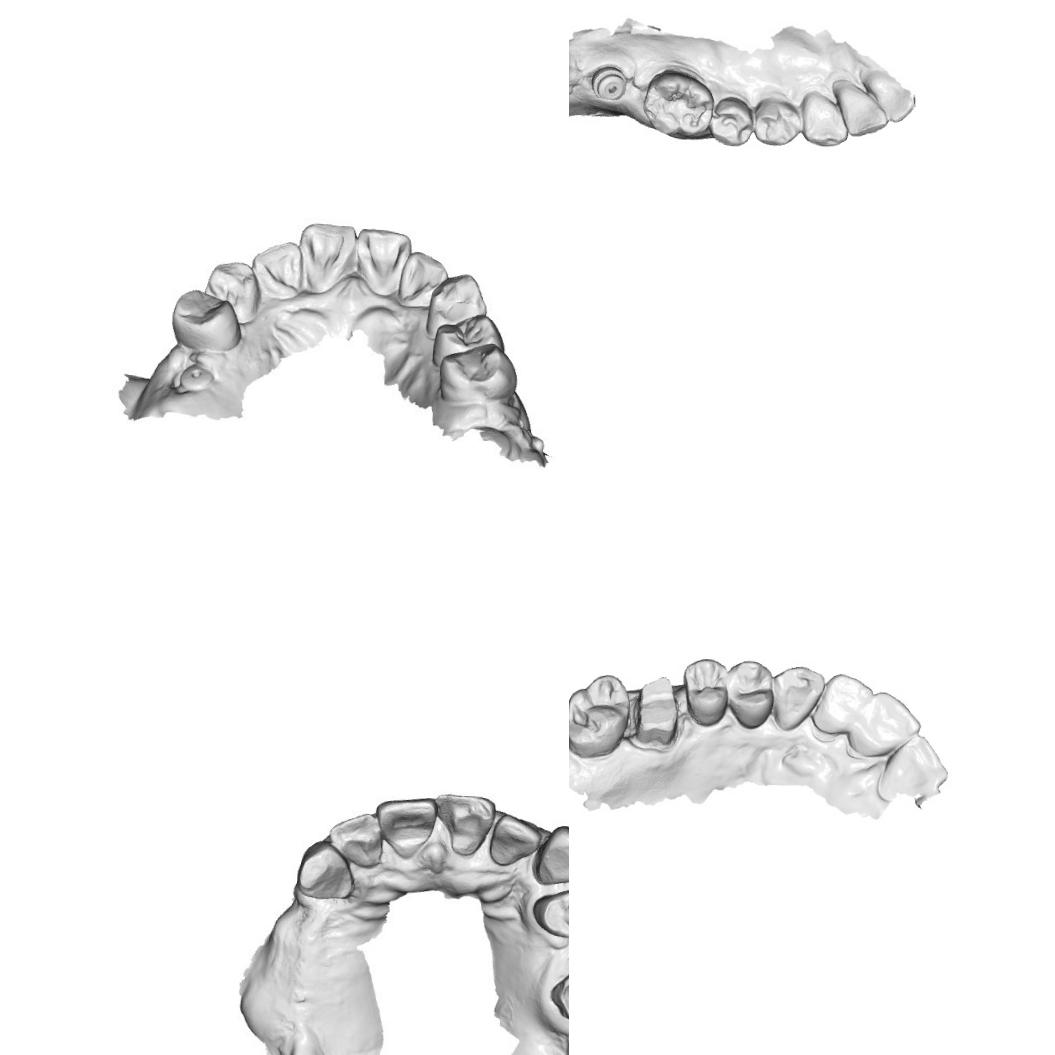canine: (294, 838, 359, 904), (769, 662, 826, 732), (799, 88, 850, 148), (528, 818, 569, 890), (208, 260, 260, 313), (430, 274, 487, 321)
crown: (628, 672, 684, 752)
implant: (588, 63, 628, 101)
incisor: (844, 688, 924, 763), (876, 732, 950, 808), (427, 785, 498, 860), (807, 671, 874, 744), (374, 796, 436, 863), (324, 812, 387, 873), (830, 78, 890, 139), (484, 814, 543, 872), (299, 222, 354, 284), (356, 224, 406, 289), (258, 238, 308, 298), (862, 72, 918, 125), (396, 253, 444, 301)
molar: (569, 670, 631, 760), (640, 67, 715, 140)
premolar: (170, 284, 241, 356), (438, 345, 516, 404), (724, 658, 776, 730), (431, 310, 504, 361), (679, 655, 730, 727), (705, 95, 755, 148), (752, 95, 802, 148), (528, 883, 569, 943)
